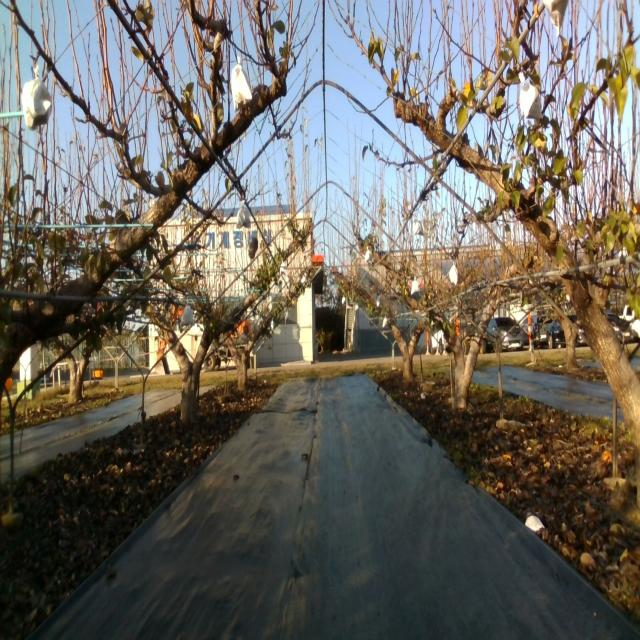pearbags: (17, 65, 55, 130), (519, 71, 543, 121), (230, 56, 252, 108), (179, 304, 194, 329), (236, 206, 252, 229), (412, 211, 424, 236)
